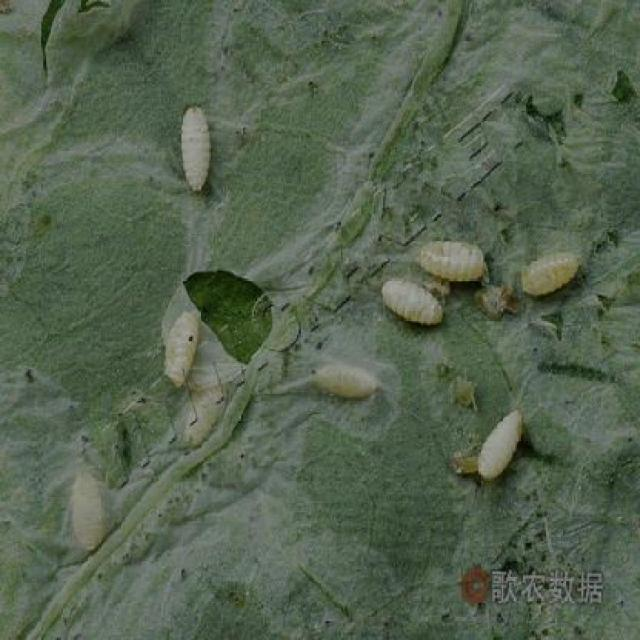whorl-maggot: (475, 388, 531, 490), (512, 243, 594, 306), (380, 261, 446, 333), (175, 91, 219, 198), (308, 346, 383, 406), (414, 226, 486, 286), (67, 469, 105, 553), (166, 311, 198, 389)
